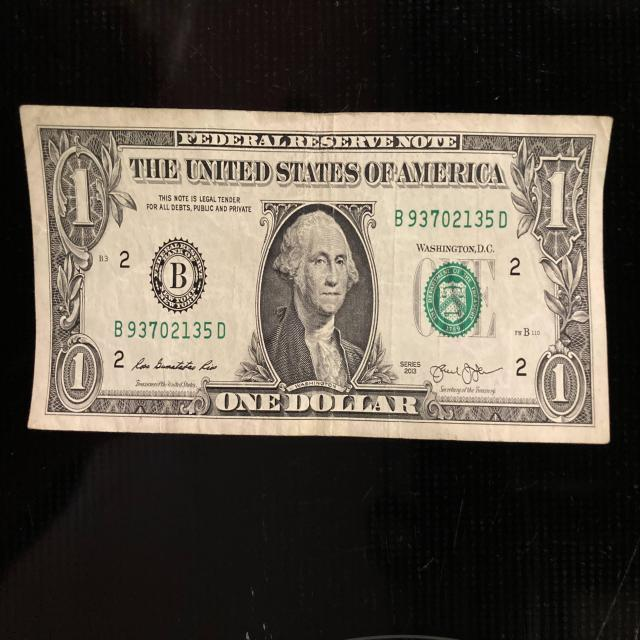one: (17, 104, 614, 446)
